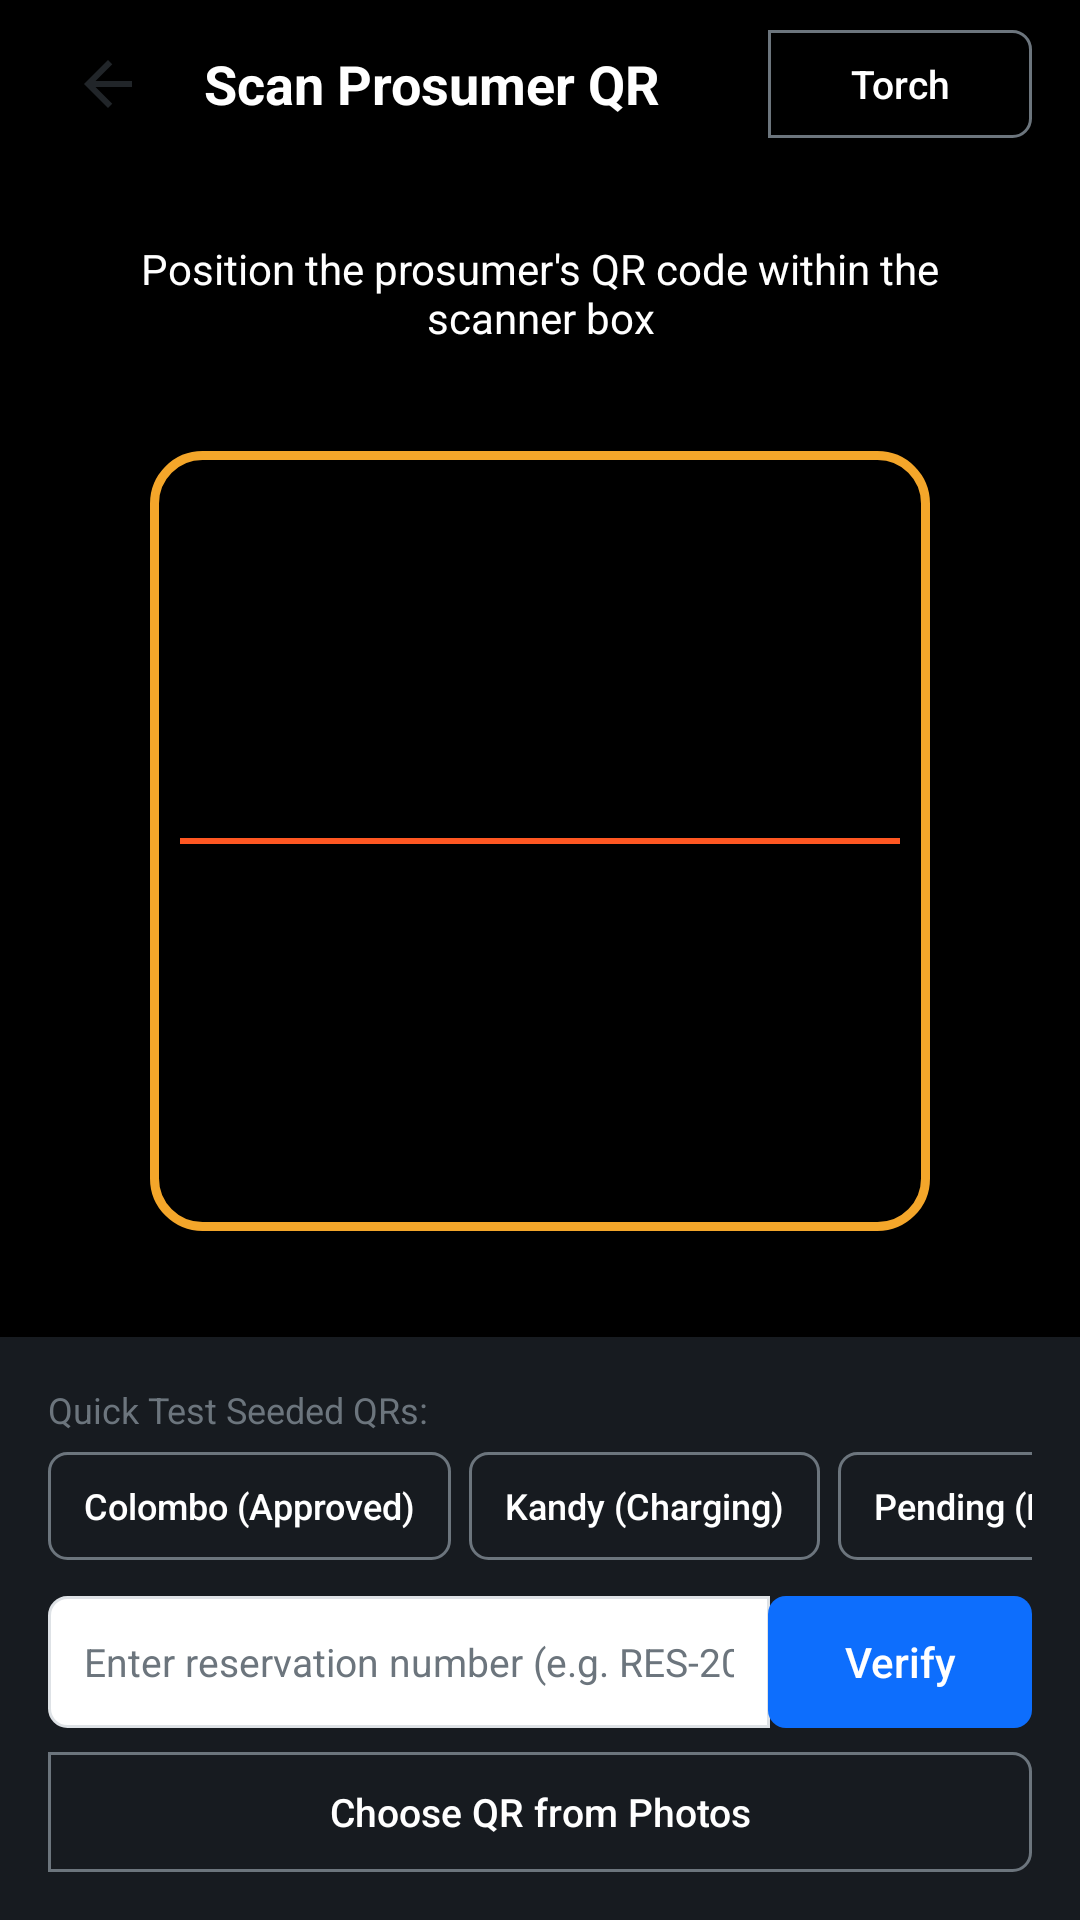

Named icons in this screenshot (1080×1920) and their centers, (x=x, y=y):
Back: (x=108, y=84)
